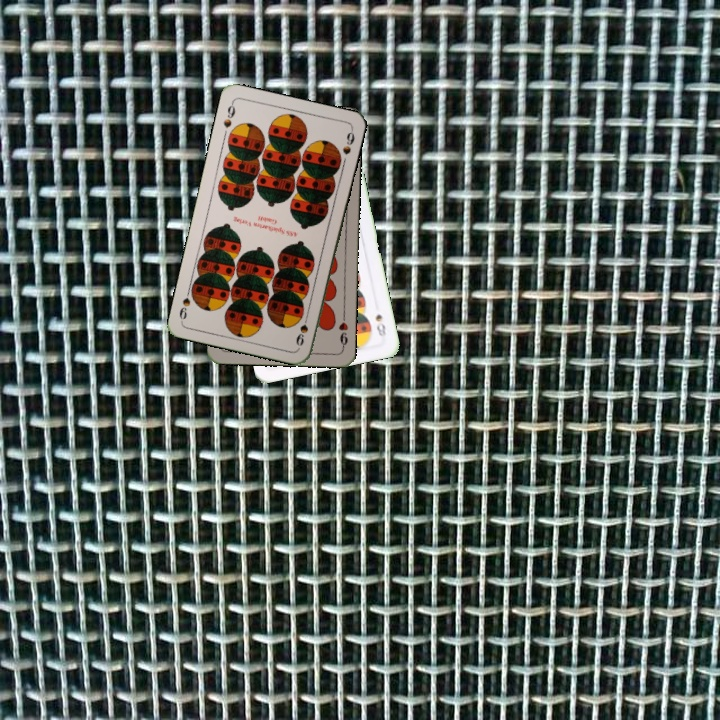H9: (335, 310, 351, 351)
S8: (371, 310, 388, 342)
S9: (292, 309, 311, 348), (219, 98, 238, 130)
